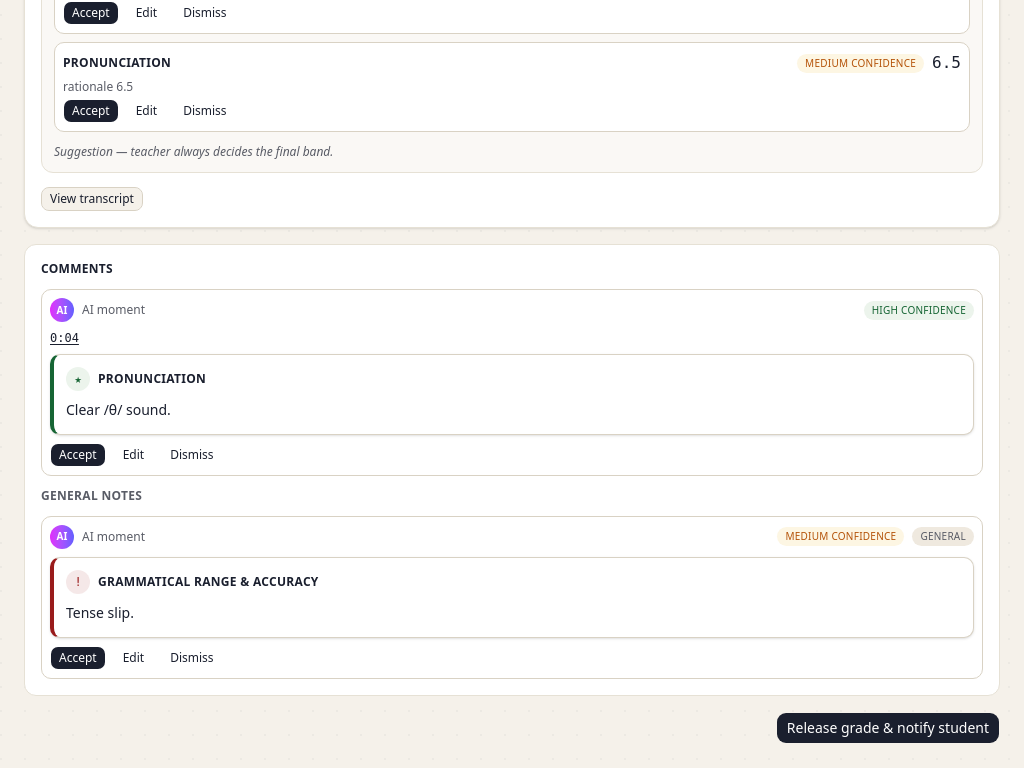
Test: SpeakingGradingPage AI — accept into the draft (AC5/AC6) › Accept moment → it leaves the AI proposals and becomes a draft comment in the rail
The width and height of the screenshot is (1024, 768).
(page scrolled)
Click the button with test id "ai-moment-ai-m-0-accept" at [78, 455], box [50,443,106,467]
(page scrolled)
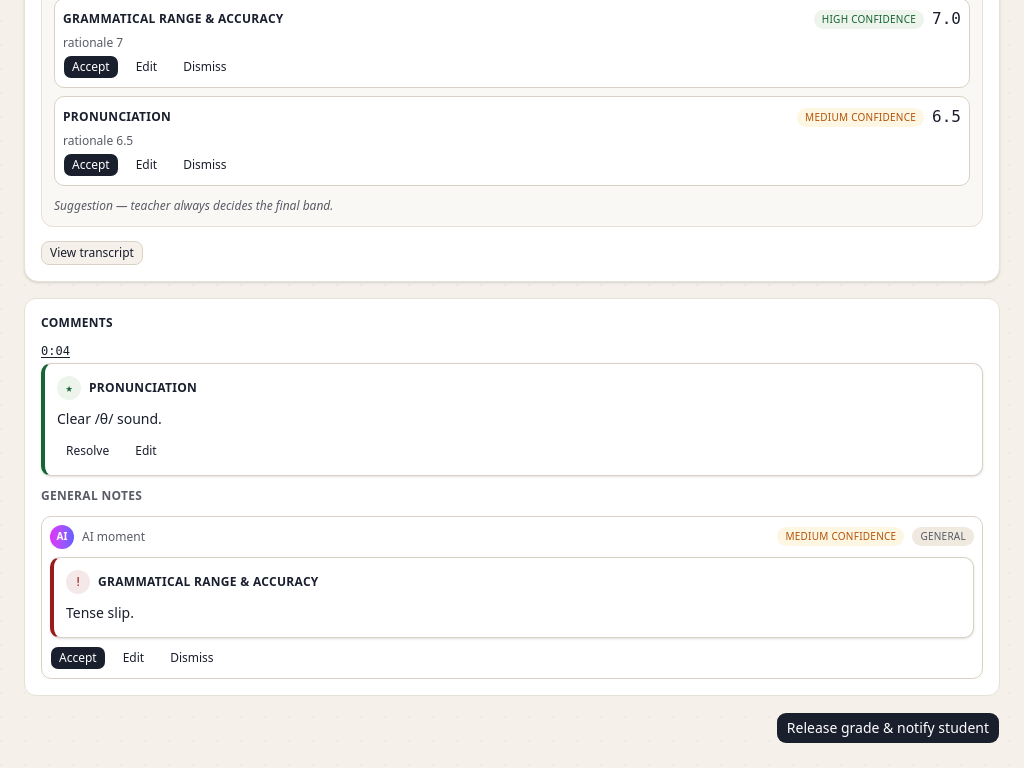
Expected: the text "Clear /θ/ sound." is shown, [57,409,162,428]
Expected: the element with test id "ai-moment-ai-m-0" is gone
